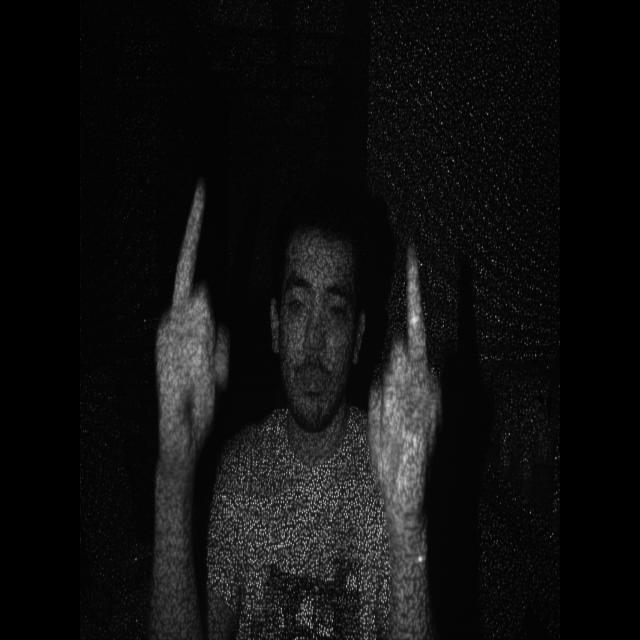STARS: (144, 160, 244, 473), (361, 243, 459, 493)
